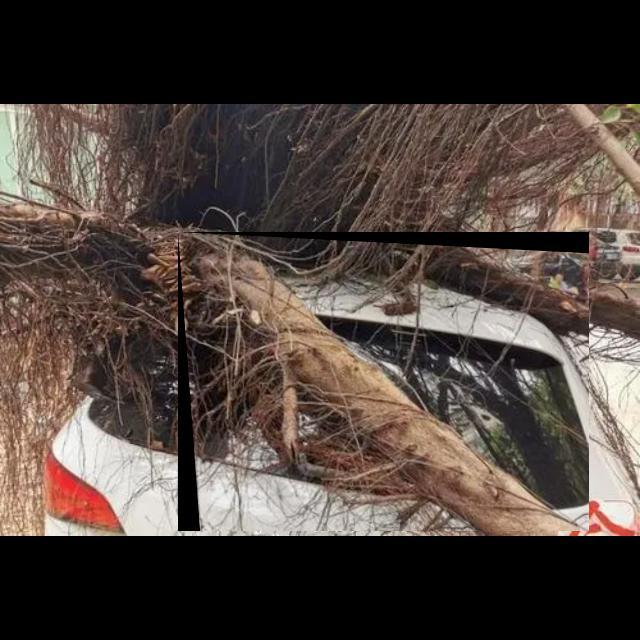fallen_tree: (178, 232, 590, 532)
